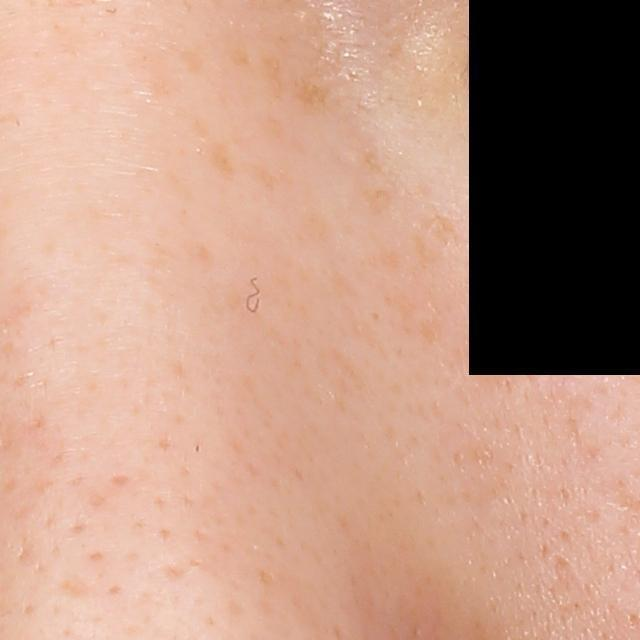melasma: (463, 299, 559, 392), (286, 73, 335, 109), (421, 209, 462, 244), (246, 160, 282, 198), (200, 142, 235, 181), (359, 186, 395, 217), (417, 315, 447, 345), (225, 45, 252, 77)
